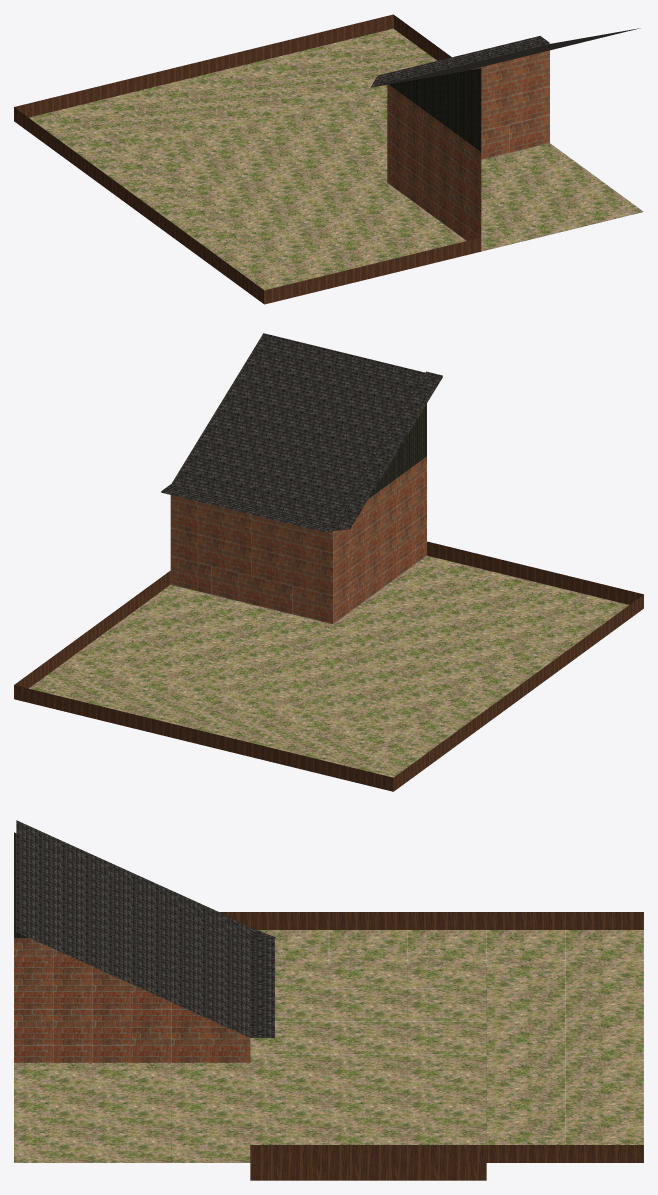
Rendered from tiletest.glb.
3 views of the same model, one above another, from view 1: azimuth 30°, elevation 25°; view 2: azimuth 150°, elevation 25°; view 3: azimuth 270°, elevation 25° (orthographic). The views are drawn at different scales.
Parts seen in each view (by area): view 1: Plane; view 2: Plane; view 3: Plane.
Part boxes in pixels (x1,y1,x2,y2): Plane: (14, 14, 643, 304); Plane: (14, 333, 643, 791); Plane: (14, 820, 643, 1180).
Size of the model in its own units: 28 by 14.03 by 32.
1 material, 1 textured.
